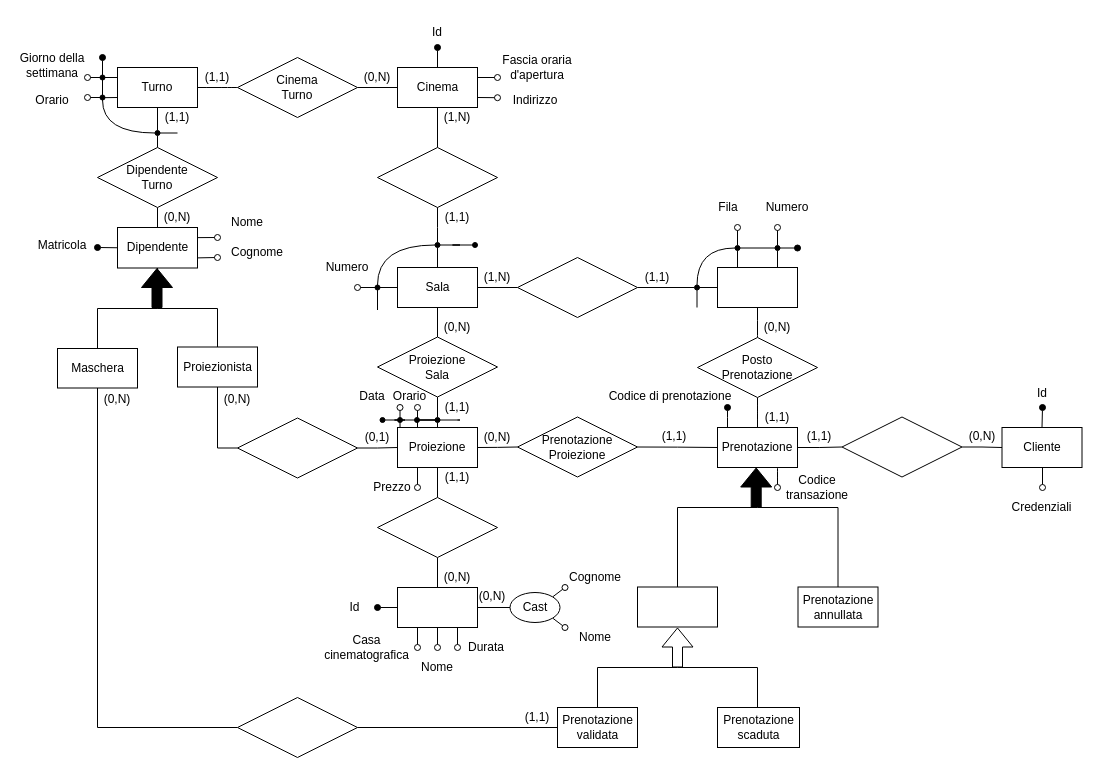
Some shapes in this 1099 by 775 pixel diagram are drawn without their labels. Here are the shapes that lost their labels. From the top down, the centre of each, then its label:
(437,177): Cinema Sala
(577,287): Sala Posto
(757,287): Posto
(297,447): Proiezione Proiezionista
(901,446): Cliente Prenotazione
(437,527): Film Proiezione
(437,607): Film
(677,606): Prenotazione confermata
(297,727): Validazione
